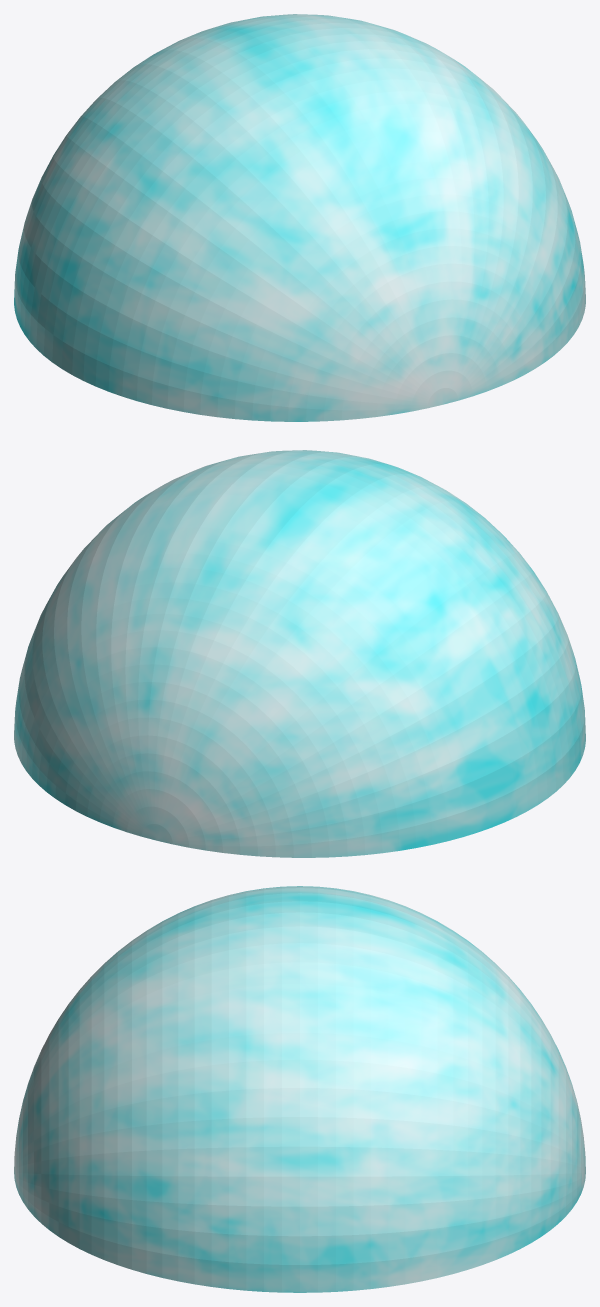
Rendered from Sky.fbx.
The picture shows the model from 3 angles, top to bottom: view 1: azimuth 30°, elevation 25°; view 2: azimuth 150°, elevation 25°; view 3: azimuth 270°, elevation 25°; orthographic projection.
Visible parts, largest first — view 1: Sphere; view 2: Sphere; view 3: Sphere.
Boxes of the visible parts, x1,y1,x2,y2 form: Sphere: (14, 14, 585, 421); Sphere: (14, 450, 585, 857); Sphere: (14, 886, 585, 1292).
Size of the model in its own units: 999986 by 503832 by 1000000.
